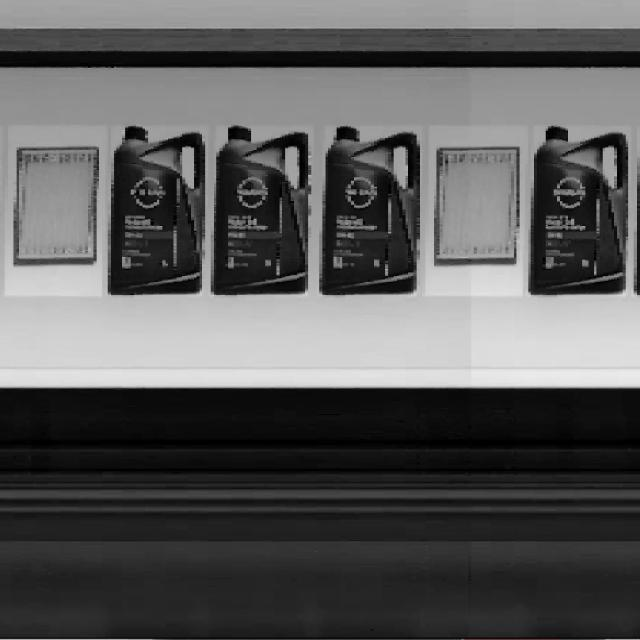air_filter: (429, 140, 524, 276), (10, 143, 100, 271)
motor_oil: (317, 121, 424, 300), (106, 123, 207, 301), (212, 124, 310, 298), (534, 120, 630, 296)
